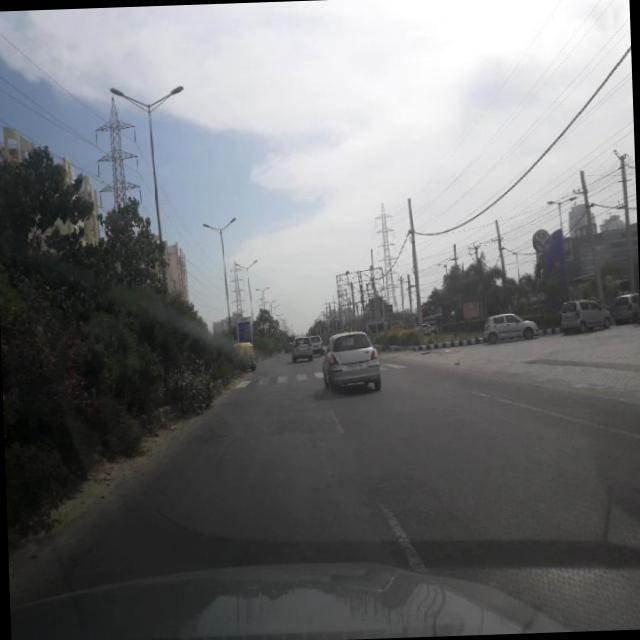crack: (66, 415, 627, 590)
pothole: (215, 426, 239, 472)
